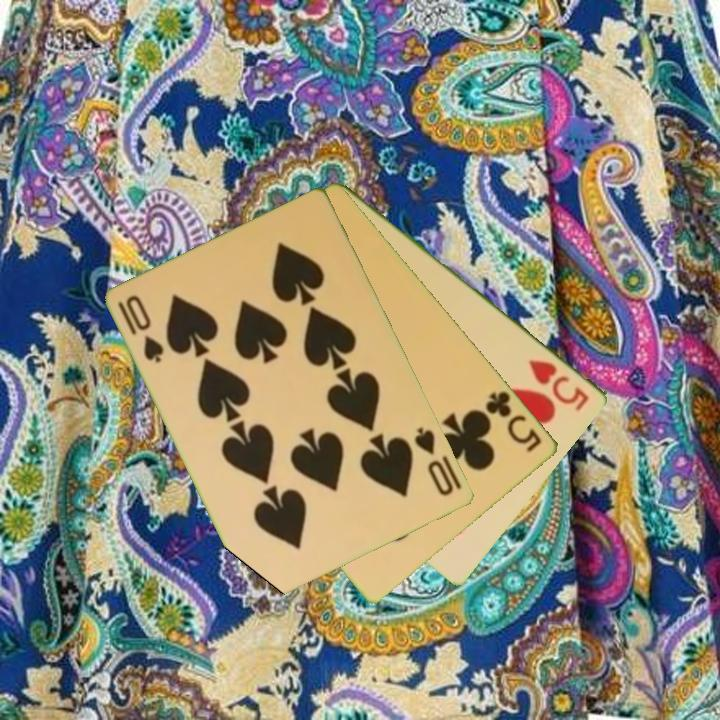10s: (115, 292, 168, 366), (411, 424, 457, 500)
5c: (482, 387, 546, 455)
5h: (526, 356, 593, 414)
